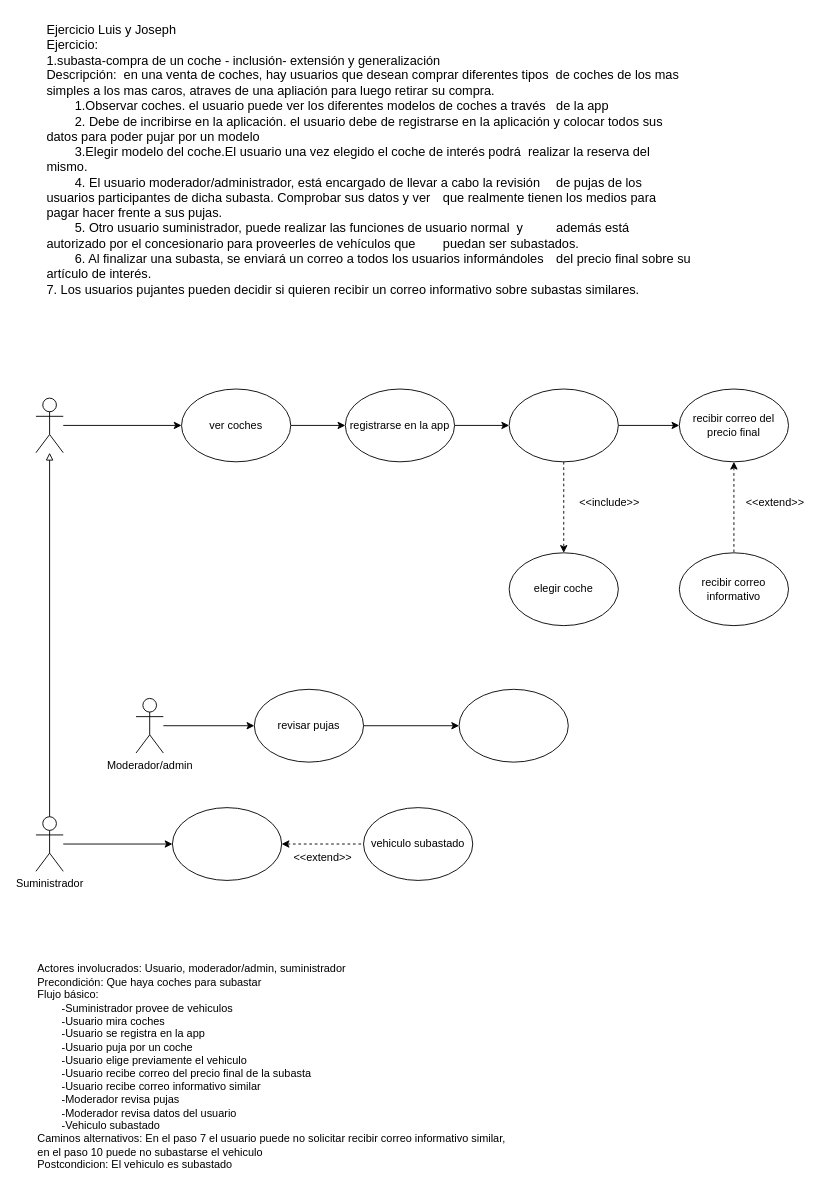
The diagram is 831 pixels wide and 1187 high, and some of its shapes have lost their labels. Each missing label, with the centre of its shape:
proveer de vehiculo: the point at 227,843
pujar por coche: the point at 563,425
revisar datos del usuario: the point at 513,725
Usuario: the point at 49,425
